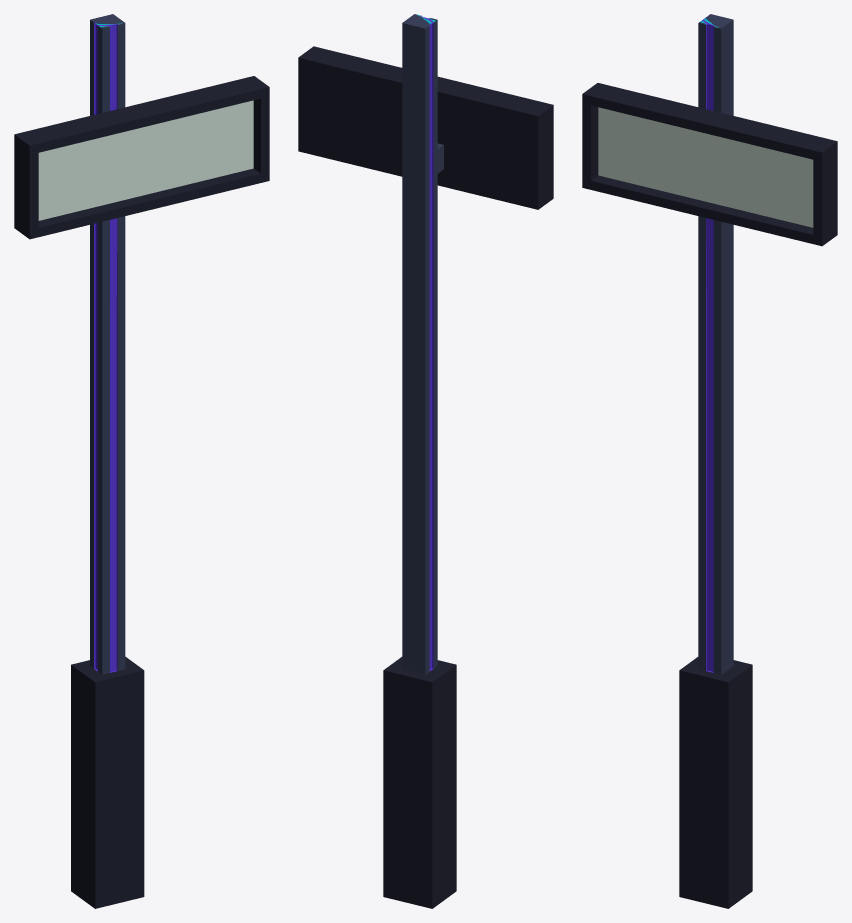
The model's file is Building_StreetSign_Single.fbx.
3 renders of one model, left to right at view 1: azimuth 30°, elevation 25°; view 2: azimuth 150°, elevation 25°; view 3: azimuth 330°, elevation 25°, orthographic.
Visible parts, largest first — view 1: Cube.397; view 2: Cube.397; view 3: Cube.397.
Part boxes in pixels (box(x1,y1,x2,y2)): Cube.397: box(14, 14, 269, 908); Cube.397: box(298, 14, 553, 908); Cube.397: box(582, 14, 837, 908).
Size of the model in its own units: 78.86 by 274 by 22.76.
